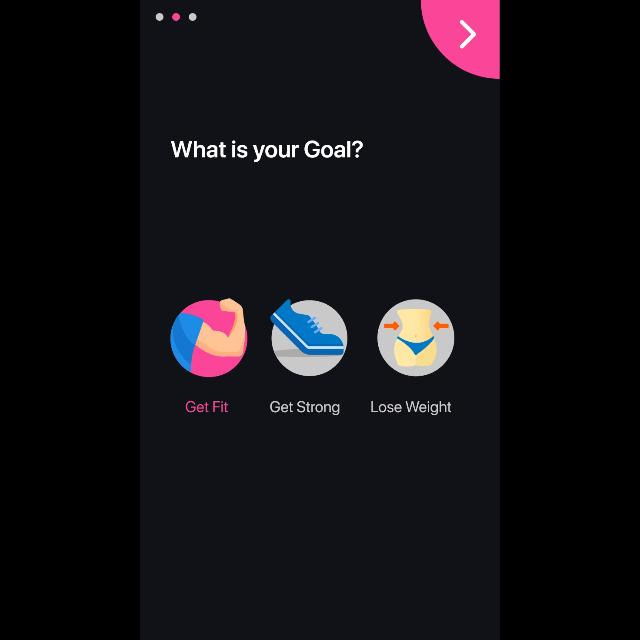icon: (459, 20, 476, 50)
image: (170, 298, 248, 378), (270, 299, 348, 376), (378, 299, 454, 376)
pageindicator: (156, 12, 198, 22)
text: (171, 140, 363, 163), (371, 400, 451, 416), (270, 400, 340, 416), (186, 401, 228, 413)
